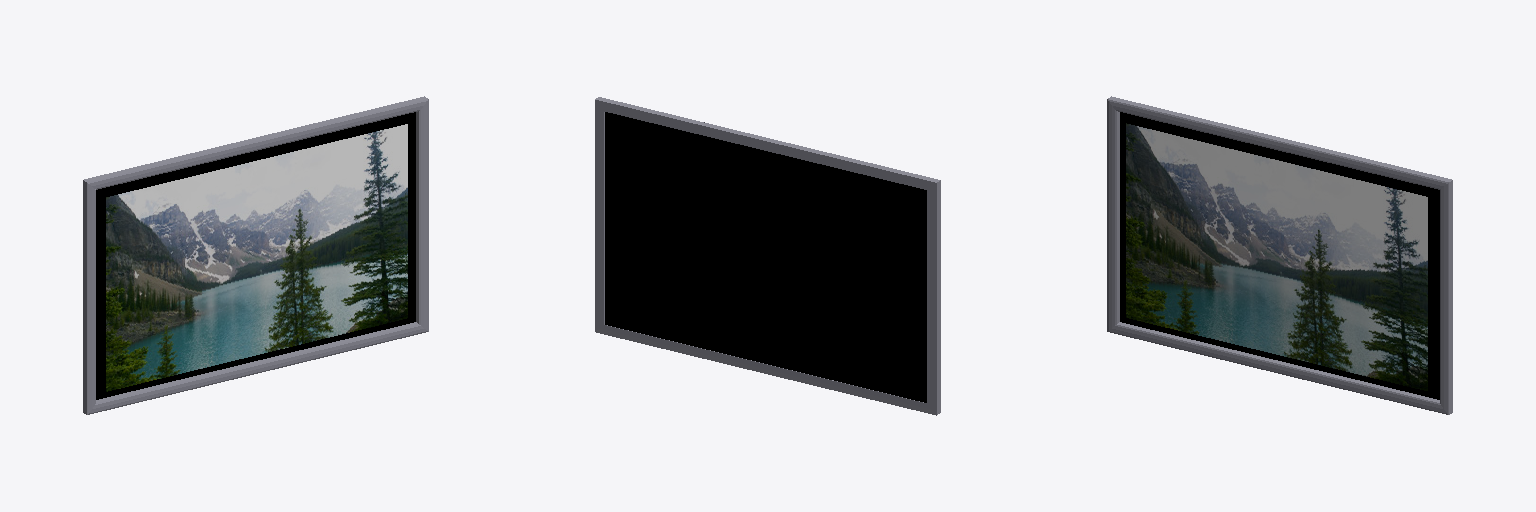
3 views of the same model, side by side, from view 1: azimuth 30°, elevation 25°; view 2: azimuth 150°, elevation 25°; view 3: azimuth 330°, elevation 25° (orthographic).
Visible parts, largest first — view 1: Photo_Cube_Material_LakeMoraine, MetalFrame_Cylinder_Aluminium.007, Frame_Black_Material.008; view 2: Frame_Black_Material.008, MetalFrame_Cylinder_Aluminium.007; view 3: Photo_Cube_Material_LakeMoraine, MetalFrame_Cylinder_Aluminium.007, Frame_Black_Material.008.
Boxes of the visible parts, <box> form: Photo_Cube_Material_LakeMoraine: <box>106,124,407,391</box>; MetalFrame_Cylinder_Aluminium.007: <box>83,96,428,414</box>; Frame_Black_Material.008: <box>96,112,415,399</box>; Frame_Black_Material.008: <box>605,112,926,402</box>; MetalFrame_Cylinder_Aluminium.007: <box>595,97,940,415</box>; Photo_Cube_Material_LakeMoraine: <box>1126,123,1427,390</box>; MetalFrame_Cylinder_Aluminium.007: <box>1107,96,1452,414</box>; Frame_Black_Material.008: <box>1120,112,1439,399</box>.
Size of the model in its own units: 73.53 by 47.86 by 1.6.
Materials: 3 (1 with a texture image).